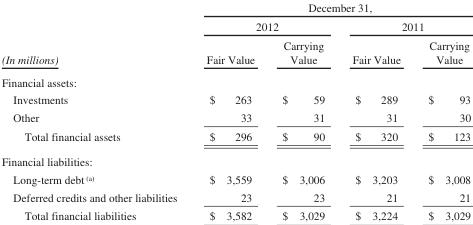table: (0, 0, 470, 221)
table column: (0, 0, 191, 221), (191, 0, 267, 221), (337, 0, 413, 221), (267, 0, 337, 221), (413, 0, 470, 221)
table column header: (0, 0, 470, 70)
table projected row header: (0, 148, 470, 170), (0, 70, 470, 90)
table row: (0, 35, 470, 70), (0, 126, 470, 148), (0, 148, 470, 170), (0, 70, 470, 90), (0, 16, 470, 35), (0, 187, 470, 206), (0, 90, 470, 108), (0, 108, 470, 126), (0, 170, 470, 187), (0, 0, 470, 16), (0, 206, 470, 221)
table spanning cell: (0, 0, 191, 70), (191, 0, 470, 16), (191, 16, 337, 35), (337, 16, 470, 35)
